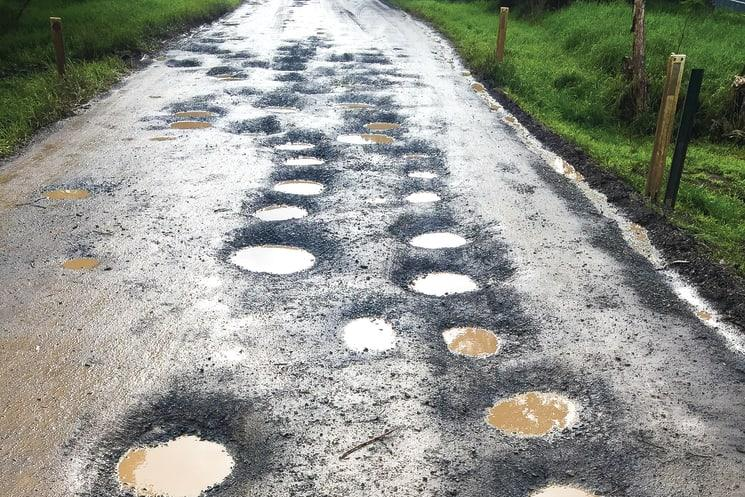Pothole: (261, 174, 484, 323)
